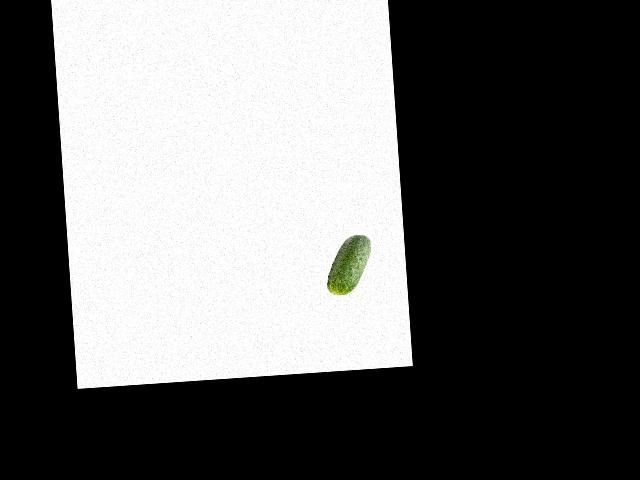cucumber: (324, 233, 374, 296)
